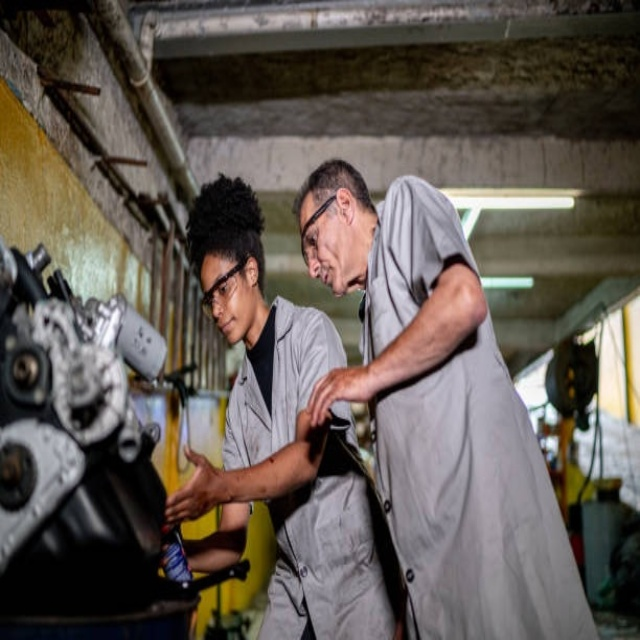Gafas: (202, 256, 248, 320), (300, 194, 340, 264)
Sin_guantes: (163, 436, 225, 530), (300, 364, 357, 432)
Sin_mascara: (317, 267, 341, 298), (216, 315, 242, 342)
